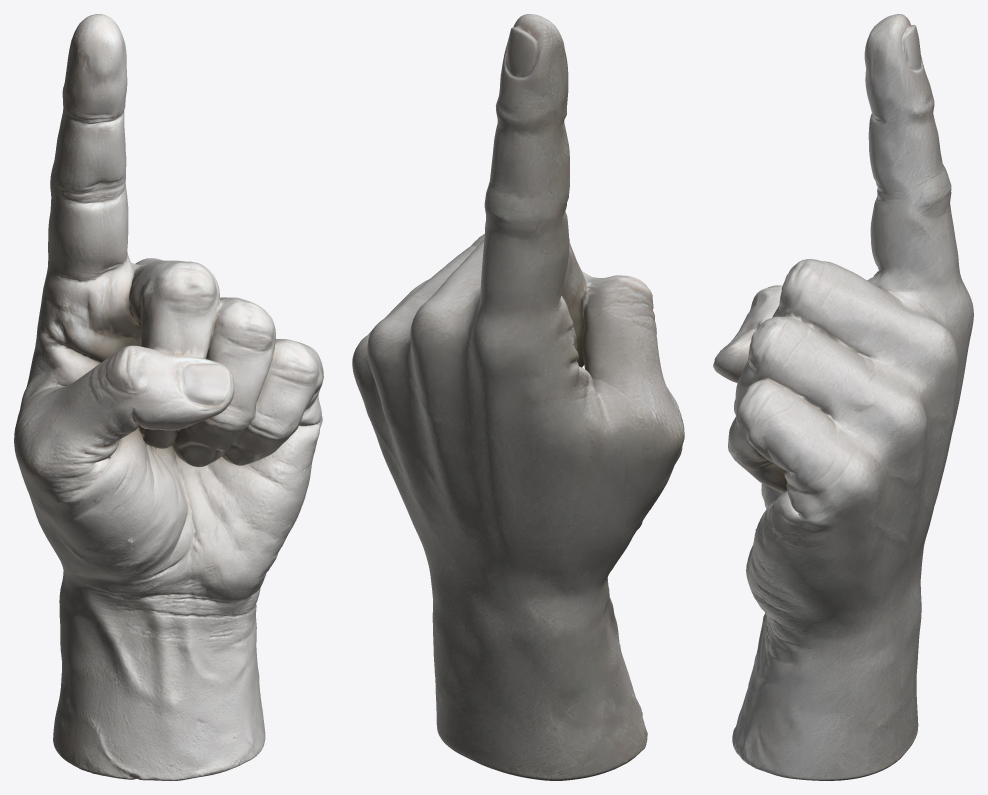
The model's file is white-hand.glb.
The picture shows the model from 3 angles, left to right: view 1: azimuth 30°, elevation 25°; view 2: azimuth 150°, elevation 25°; view 3: azimuth 270°, elevation 25°; orthographic projection. The views are drawn at different scales.
Visible parts, largest first — view 1: tripo_node_adaf0c85-080e-4ca9-a984-dc70d2e72d3e; view 2: tripo_node_adaf0c85-080e-4ca9-a984-dc70d2e72d3e; view 3: tripo_node_adaf0c85-080e-4ca9-a984-dc70d2e72d3e.
Boxes of the visible parts, <box> form: tripo_node_adaf0c85-080e-4ca9-a984-dc70d2e72d3e: <box>14,14,323,780</box>; tripo_node_adaf0c85-080e-4ca9-a984-dc70d2e72d3e: <box>352,14,684,780</box>; tripo_node_adaf0c85-080e-4ca9-a984-dc70d2e72d3e: <box>713,14,973,780</box>.
Bounding box in the file's own units: 0.422 × 0.9789 × 0.325.
Materials: 1 (1 with a texture image).
